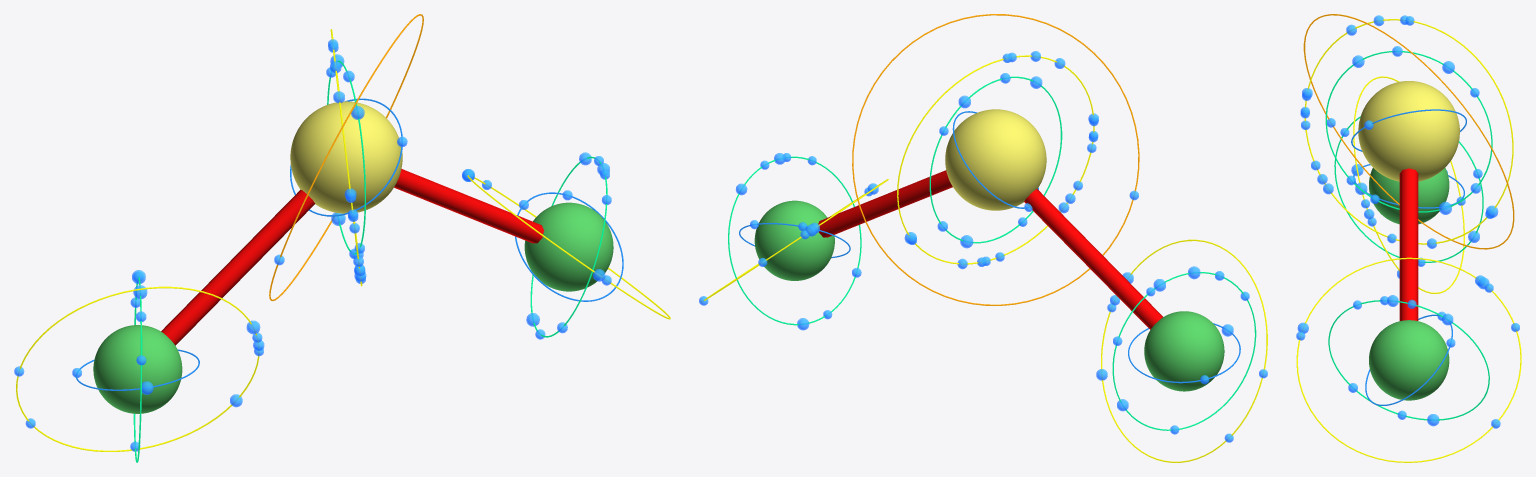
Rendered from CuCl2.glb.
3 views of the same model, side by side, from view 1: azimuth 30°, elevation 25°; view 2: azimuth 150°, elevation 25°; view 3: azimuth 270°, elevation 25° (orthographic). The views are drawn at different scales.
Visible parts, largest first — view 1: Cl (×2), Cu, object 140, object 141, object 87, object 61, object 125; view 2: Cl (×2), Cu, object 140, object 141, object 61, object 87, object 24, object 7, object 70, object 108; view 3: Cu, Cl (×2), object 141, object 61, object 125, object 24, object 7, object 108, object 87, object 70, object 103, object 2.
Boxes of the visible parts, <box> form: Cl (×2): <box>93,202,613,413</box>; Cu: <box>290,101,402,213</box>; object 140: <box>161,189,315,345</box>; object 141: <box>394,169,543,243</box>; object 87: <box>16,286,259,451</box>; object 61: <box>269,14,423,300</box>; object 125: <box>467,175,670,319</box>; Cl (×2): <box>754,200,1224,391</box>; Cu: <box>945,109,1046,210</box>; object 140: <box>1024,189,1162,329</box>; object 141: <box>818,170,952,237</box>; object 61: <box>852,14,1139,305</box>; object 87: <box>1101,239,1267,462</box>; object 24: <box>897,55,1094,264</box>; object 7: <box>929,76,1062,243</box>; object 70: <box>1112,272,1256,430</box>; object 108: <box>728,156,861,325</box>; Cu: <box>1358,81,1459,181</box>; Cl (×2): <box>1369,168,1449,400</box>; object 141: <box>1399,168,1418,320</box>; object 61: <box>1303,14,1514,249</box>; object 125: <box>1296,257,1521,462</box>; object 24: <box>1304,19,1513,244</box>; object 7: <box>1325,51,1492,212</box>; object 108: <box>1328,300,1489,420</box>; object 87: <box>1353,76,1464,293</box>; object 70: <box>1334,116,1483,262</box>; object 103: <box>1365,314,1452,405</box>; object 2: <box>1351,109,1466,151</box>.
Size of the model in its own units: 13.91 by 8.56 by 4.83.
